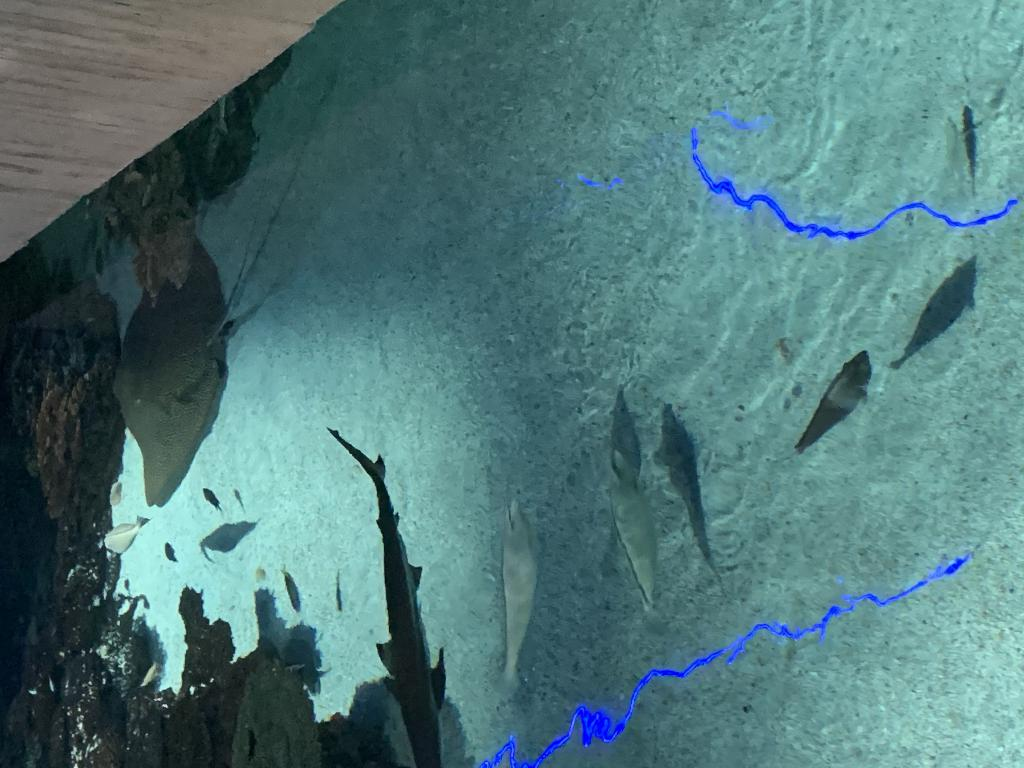fish: (648, 400, 732, 588), (588, 454, 668, 616), (489, 490, 547, 696), (888, 252, 986, 372), (786, 349, 878, 458), (598, 380, 652, 558), (957, 104, 985, 188), (100, 513, 150, 557), (278, 564, 302, 616), (104, 476, 126, 512), (200, 484, 220, 514), (334, 569, 346, 613), (161, 540, 177, 566), (230, 486, 244, 510)
shark: (366, 452, 446, 766)
stingray: (112, 235, 228, 505)
